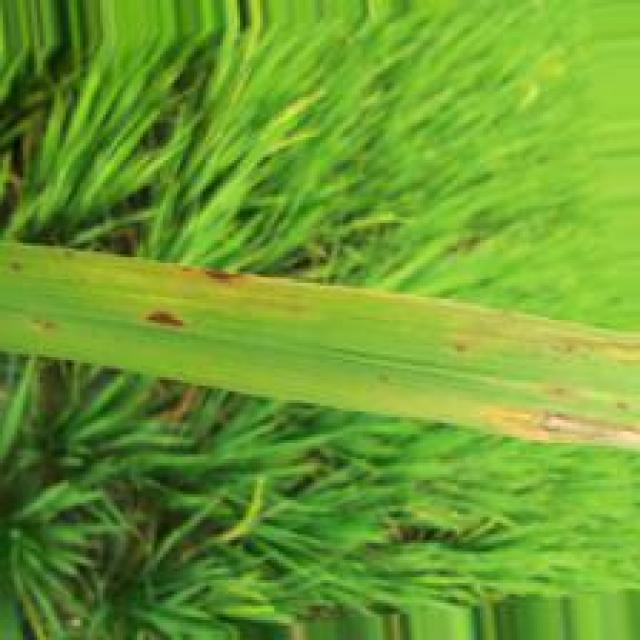Leaf_Blast: (177, 266, 284, 291), (143, 305, 188, 330)
